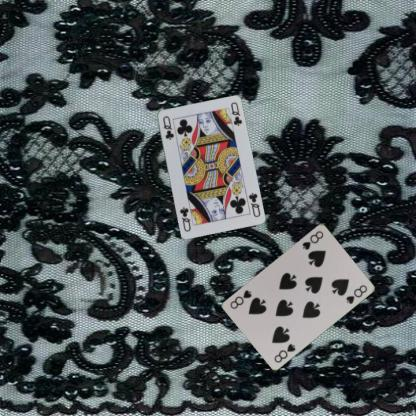8s: (272, 341, 297, 364), (299, 228, 325, 250)
Qc: (246, 190, 261, 218), (160, 114, 175, 140)
